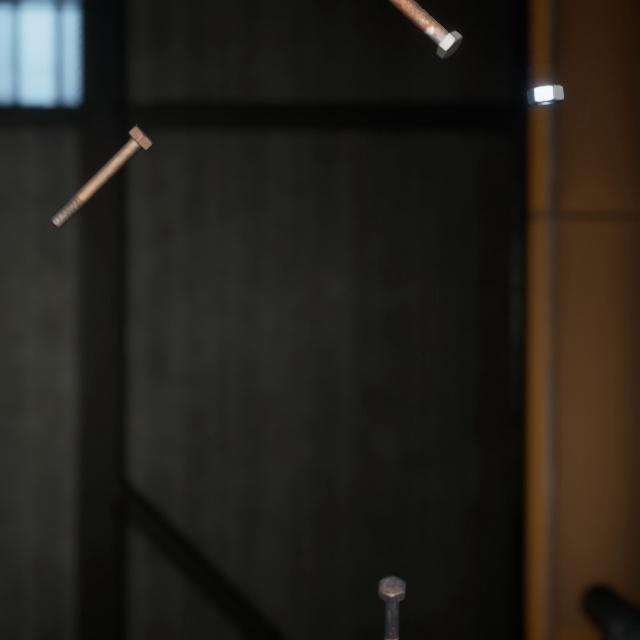bolt: (46, 107, 158, 218), (388, 0, 467, 57), (373, 548, 410, 640)
nut: (522, 68, 568, 98)
